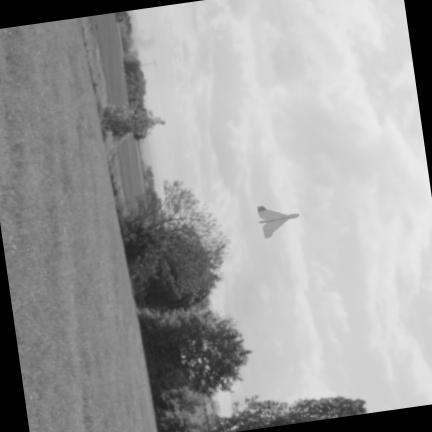Shahed: (257, 206, 297, 237)
